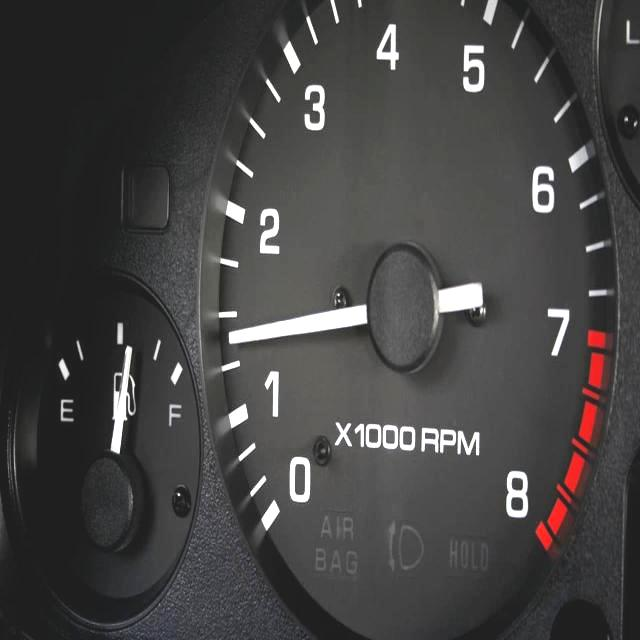Needle_Tip: (213, 317, 254, 364)
Needle_base: (366, 250, 444, 377)
max_value: (485, 471, 540, 523)
min_value: (275, 450, 327, 515)
